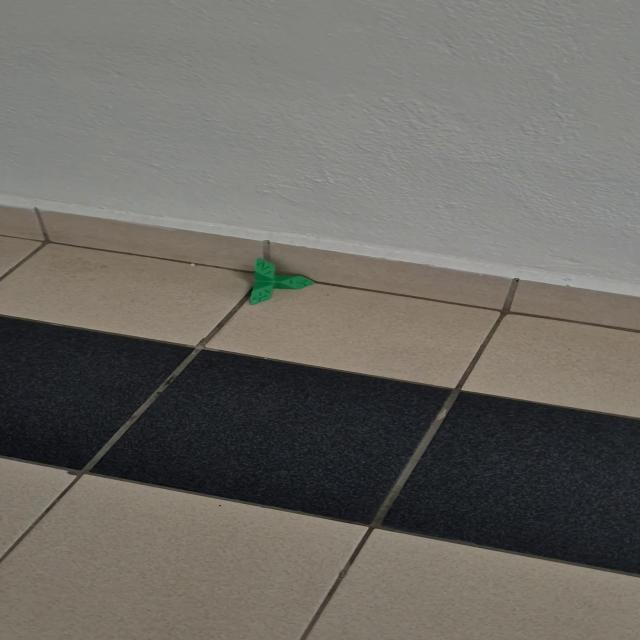objects: (248, 257, 316, 306)
